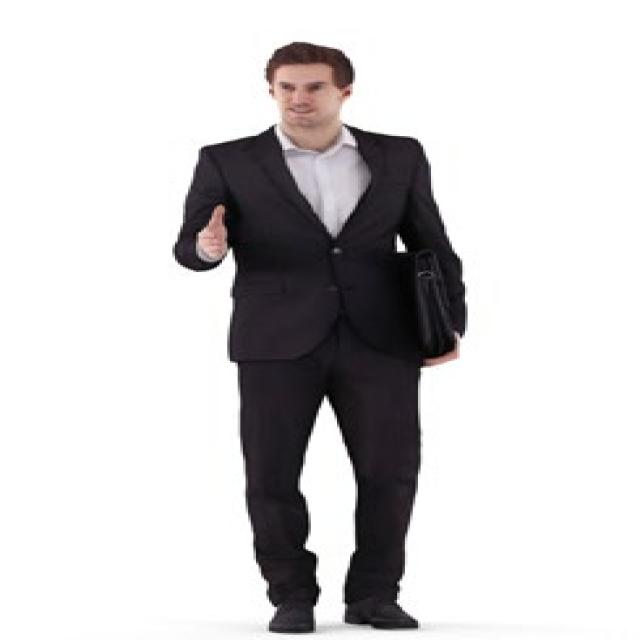standing: (170, 42, 473, 635)
